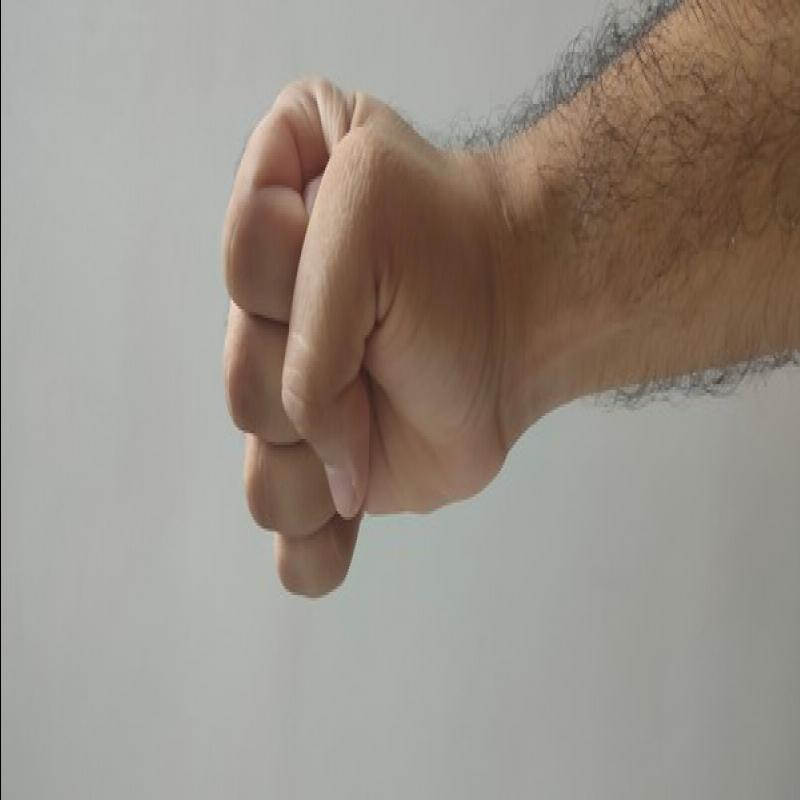Mushti: (204, 62, 513, 614)
